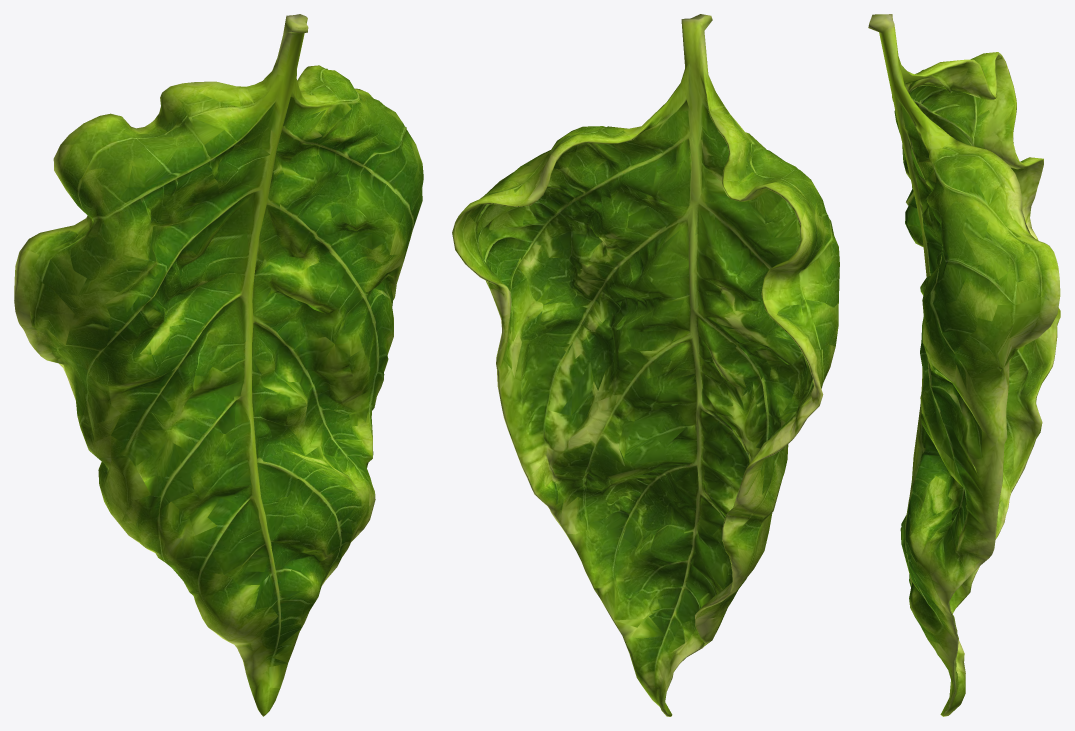
The model's file is chilli_leaf_curl.glb.
3 renders of one model, left to right at view 1: azimuth 30°, elevation 25°; view 2: azimuth 150°, elevation 25°; view 3: azimuth 270°, elevation 25°, orthographic. The views are drawn at different scales.
Visible parts, largest first — view 1: chilli_leaf_curl; view 2: chilli_leaf_curl; view 3: chilli_leaf_curl.
Boxes of the visible parts, left/top/right/bottom form: chilli_leaf_curl: left=14, top=14, right=423, bottom=716; chilli_leaf_curl: left=452, top=14, right=839, bottom=716; chilli_leaf_curl: left=868, top=14, right=1060, bottom=716.
Bounding box in the file's own units: 0.5599 × 1 × 0.2487.
Materials: 1 (1 with a texture image).
